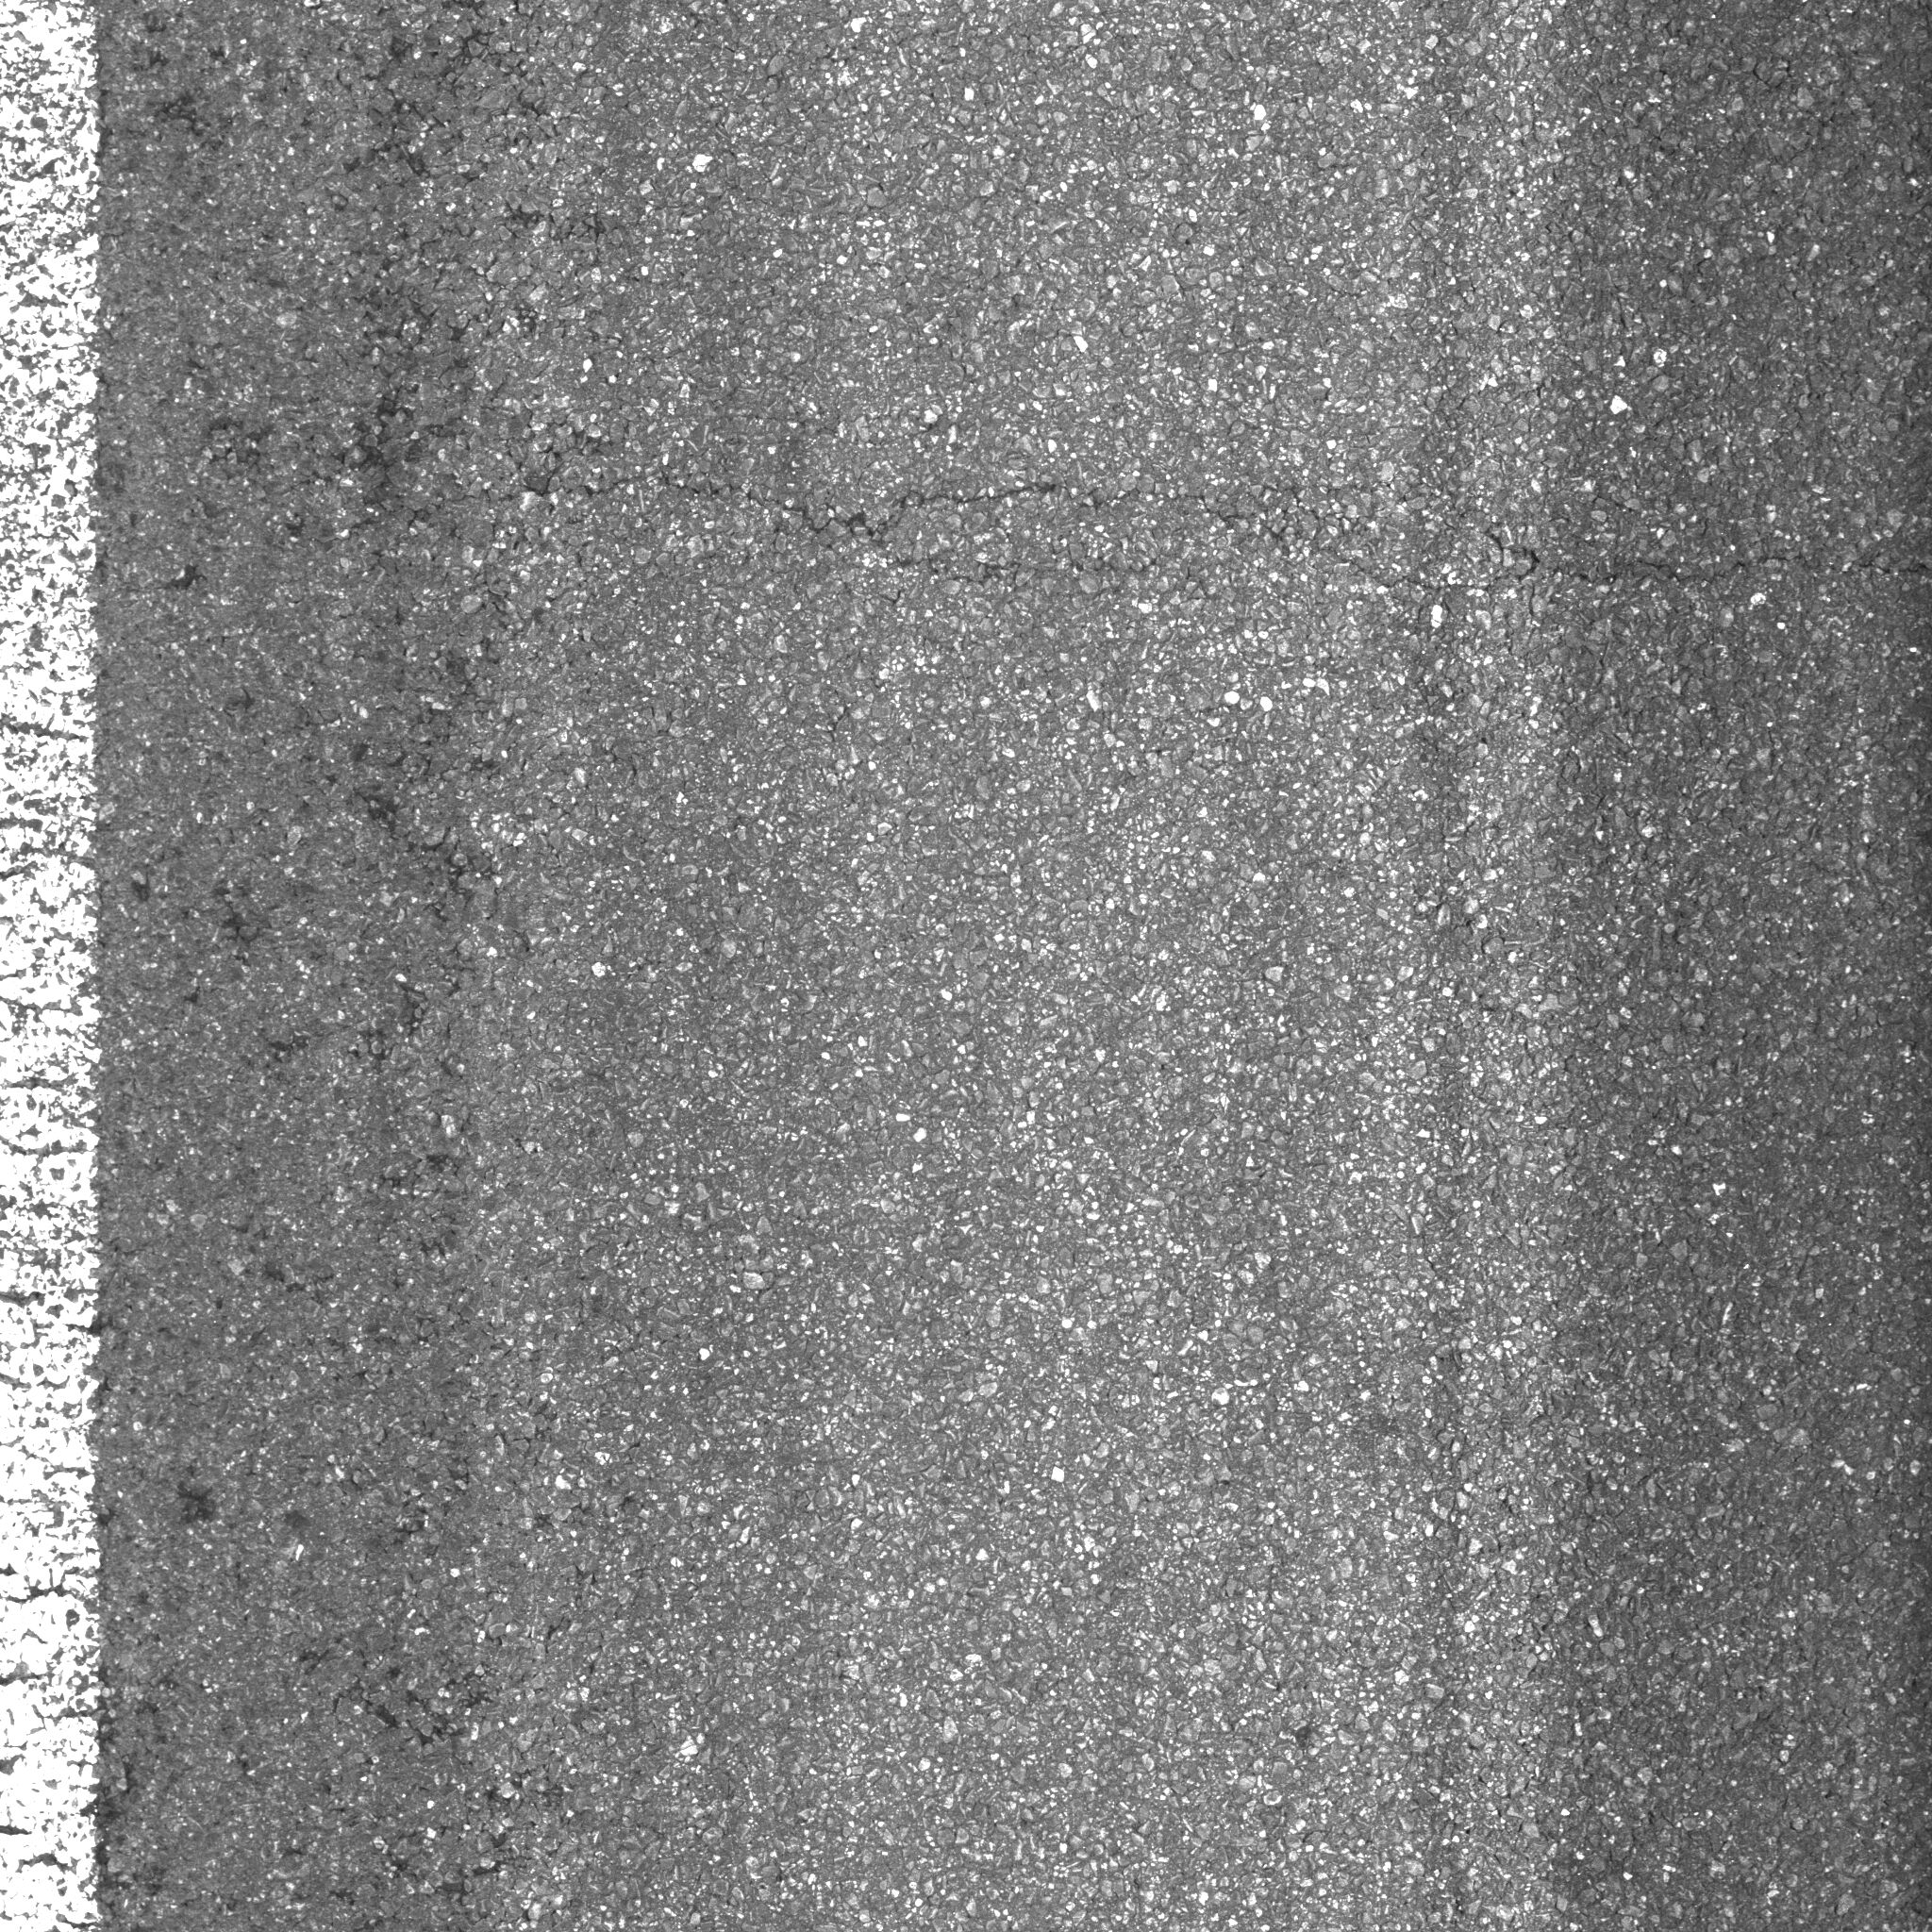transeverse: (354, 419, 1927, 623)
